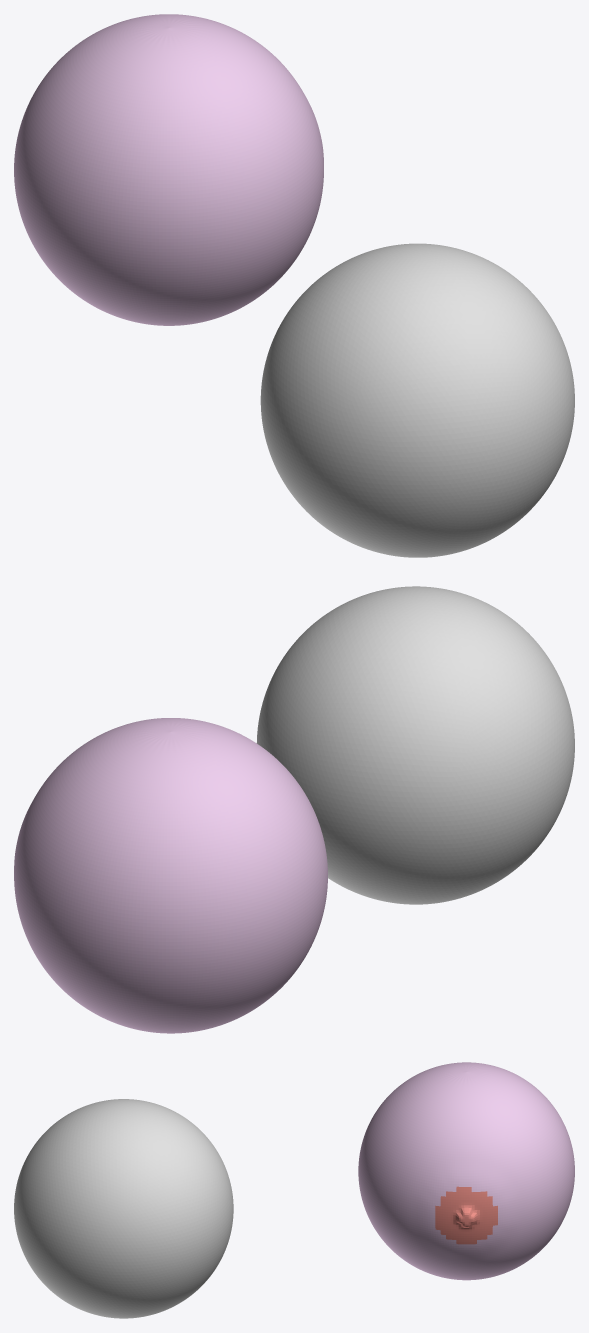
3 views of the same model, one above another, from view 1: azimuth 30°, elevation 25°; view 2: azimuth 150°, elevation 25°; view 3: azimuth 270°, elevation 25° (orthographic). The views are drawn at different scales.
Visible parts, largest first — view 1: Icosphere high, Bob; view 2: Bob, Icosphere high; view 3: Icosphere high, Bob.
Boxes of the visible parts, bbox=[...] form: Icosphere high: bbox=[260, 243, 574, 557]; Bob: bbox=[14, 14, 323, 325]; Bob: bbox=[14, 718, 327, 1033]; Icosphere high: bbox=[256, 586, 574, 904]; Icosphere high: bbox=[14, 1099, 233, 1318]; Bob: bbox=[358, 1062, 574, 1280].
Bounding box in the file's own units: 205 × 236 × 511.
